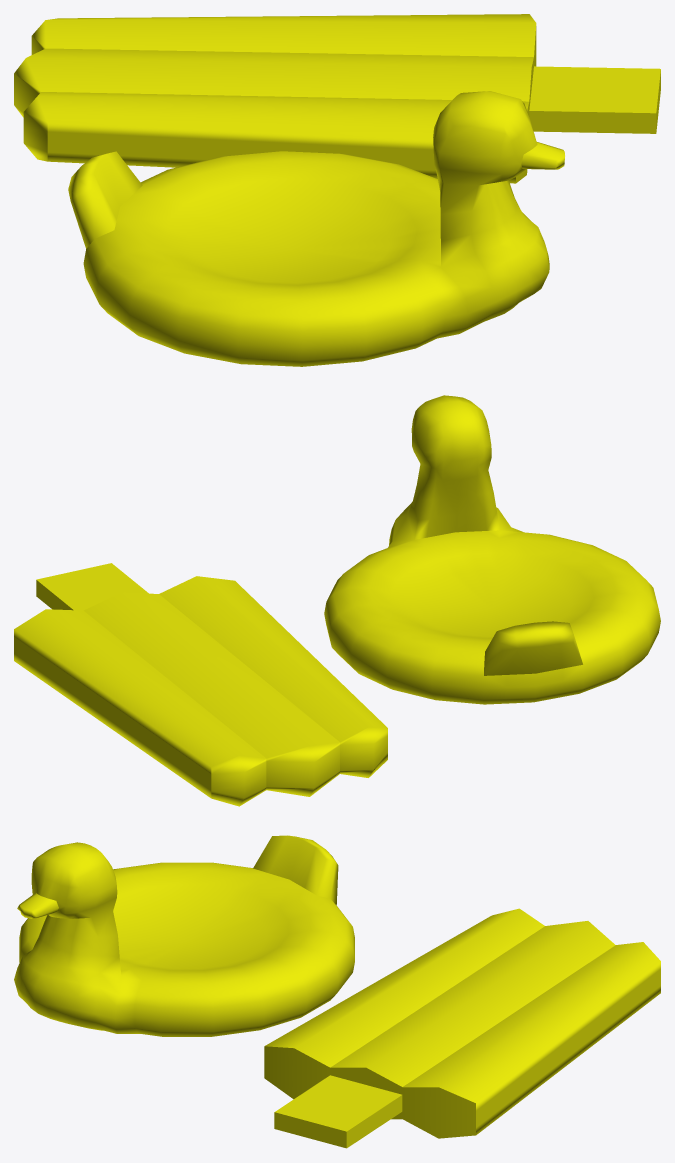
File: Level_floaty_prototype_1.fbx
3 renders of one model, top to bottom at view 1: azimuth 30°, elevation 25°; view 2: azimuth 150°, elevation 25°; view 3: azimuth 270°, elevation 25°, orthographic. The views are drawn at different scales.
Parts seen in each view (by area): view 1: duck1, popsicle; view 2: duck1, popsicle; view 3: popsicle, duck1.
Boxes of the visible parts, left/top/right/bottom form: duck1: left=68, top=91, right=564, bottom=366; popsicle: left=14, top=14, right=660, bottom=183; duck1: left=324, top=395, right=660, bottom=704; popsicle: left=14, top=563, right=387, bottom=806; popsicle: left=264, top=908, right=660, bottom=1148; duck1: left=14, top=835, right=354, bottom=1036.
Bounding box in the file's own units: 421 × 139 × 449.
